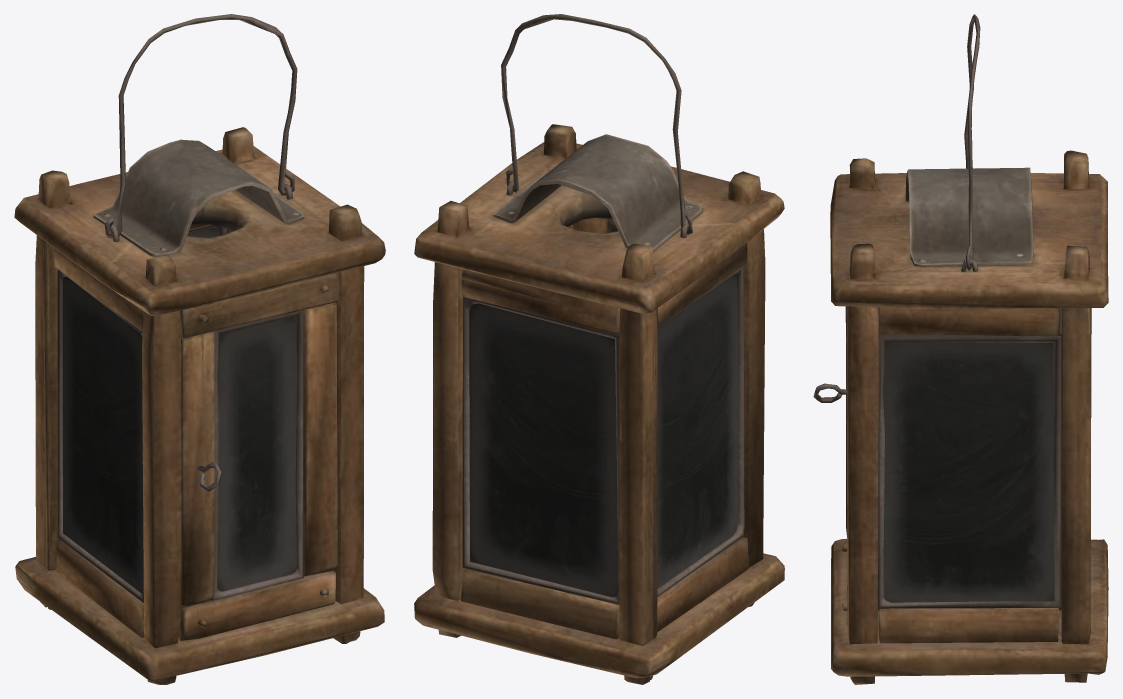
The model's file is wooden_lantern_01.glb.
3 renders of one model, left to right at view 1: azimuth 30°, elevation 25°; view 2: azimuth 150°, elevation 25°; view 3: azimuth 270°, elevation 25°, orthographic.
Parts seen in each view (by area): view 1: wooden_lantern_01, wooden_lantern_01_door, wooden_lantern_01_handle; view 2: wooden_lantern_01, wooden_lantern_01_handle, wooden_lantern_01_door; view 3: wooden_lantern_01, wooden_lantern_01_handle, wooden_lantern_01_door.
Boxes of the visible parts, x1,y1,x2,y2 form: wooden_lantern_01: (14,127,385,684); wooden_lantern_01_door: (178,272,339,640); wooden_lantern_01_handle: (104,14,297,238); wooden_lantern_01: (414,124,784,684); wooden_lantern_01_handle: (501,14,692,234); wooden_lantern_01_door: (573,218,617,233); wooden_lantern_01: (830,150,1108,684); wooden_lantern_01_handle: (964,14,980,270); wooden_lantern_01_door: (813,306,848,624).
Bounding box in the file's own units: 0.221 × 0.5287 × 0.2337.
2 materials, 2 textured.
